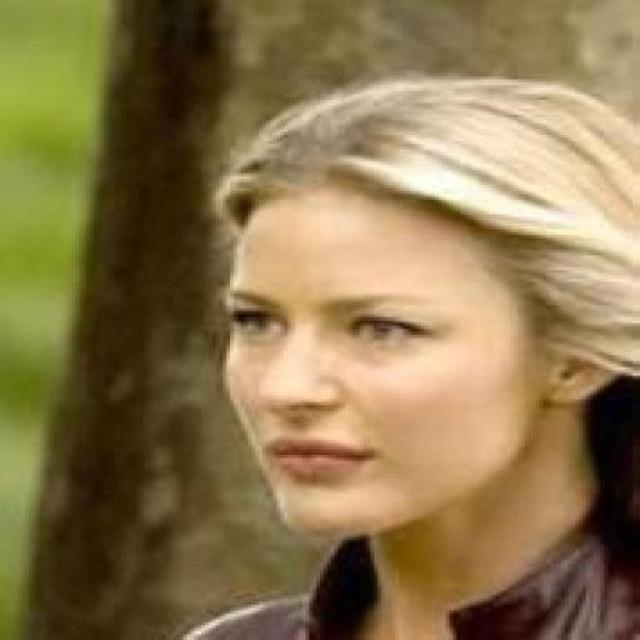bareface: (210, 111, 580, 524)
